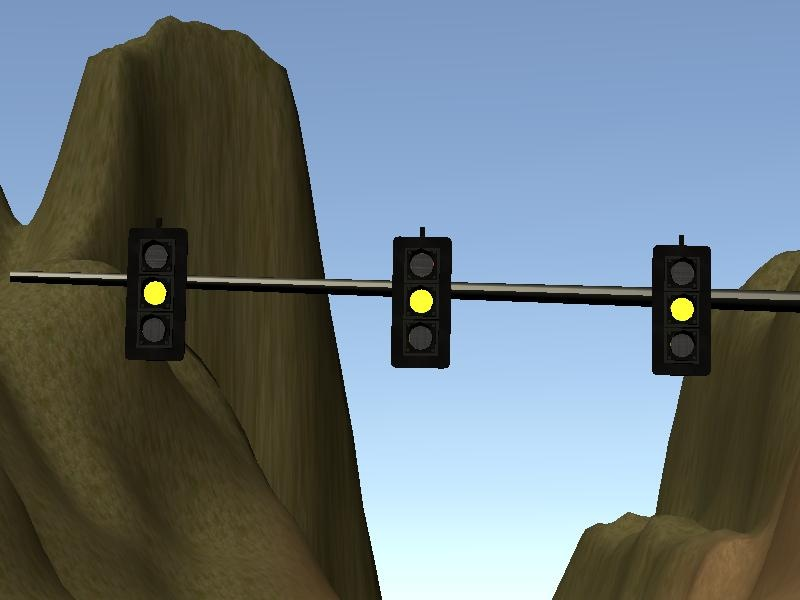yellow: (648, 242, 713, 376), (127, 227, 188, 359), (392, 234, 450, 368)
